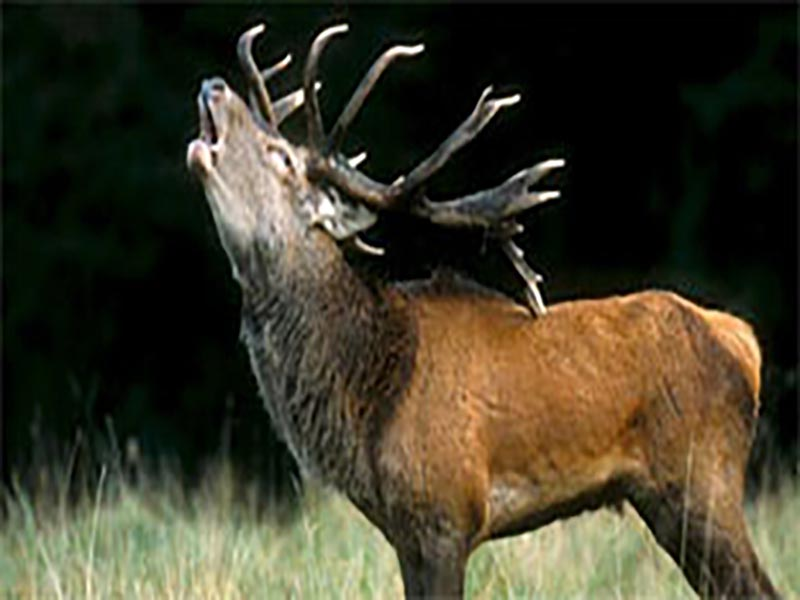cervo: (193, 15, 776, 600)
